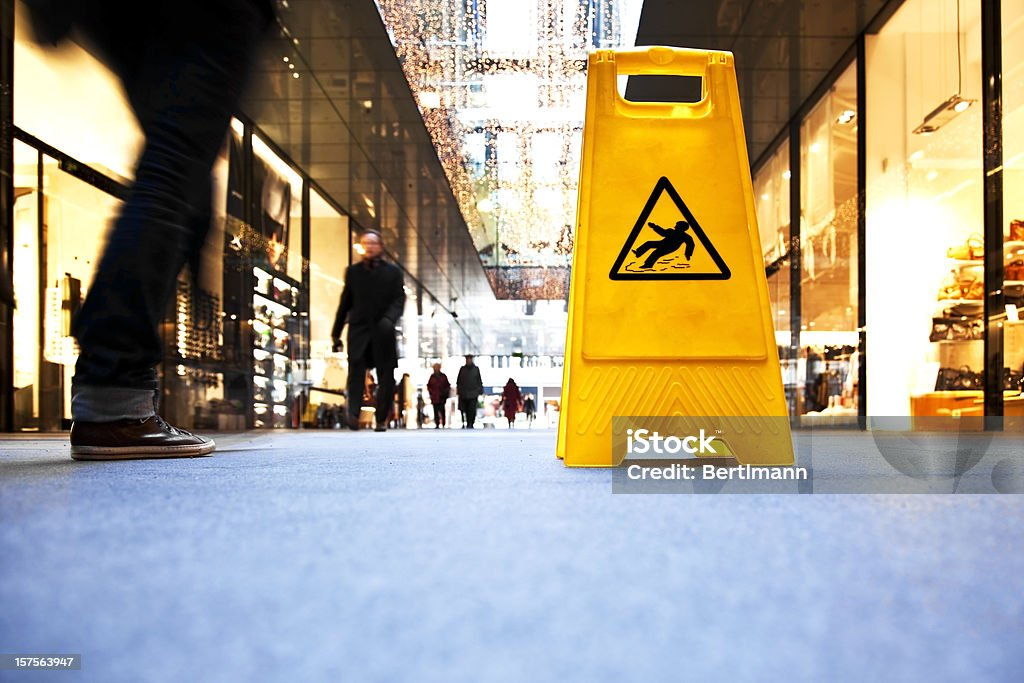wet caution sign: (542, 17, 782, 486)
